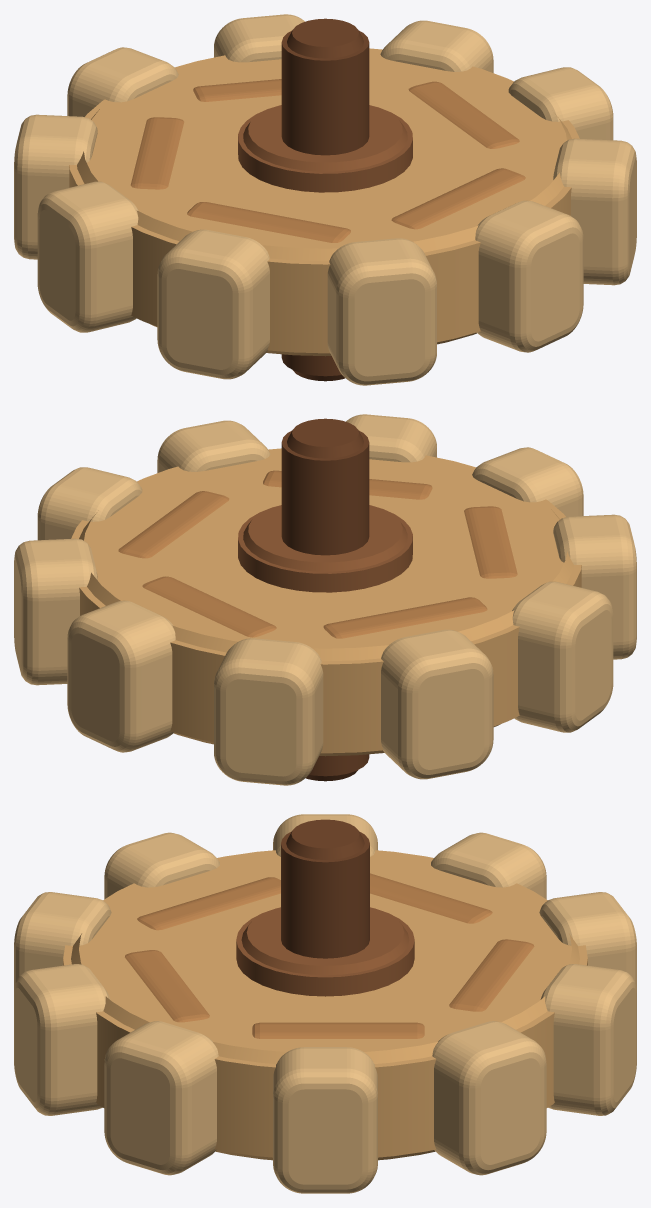
Rendered from wooden-cogwheel.glb.
3 views of the same model, one above another, from view 1: azimuth 30°, elevation 25°; view 2: azimuth 150°, elevation 25°; view 3: azimuth 270°, elevation 25° (orthographic).
Parts seen in each view (by area): view 1: rim, tooth_5, tooth_4, tooth_3, tooth_6, axle, tooth_2, hub, tooth_7, tooth_1, tooth_8, tooth_10 (+9 smaller); view 2: rim, tooth_7, tooth_8, tooth_9, tooth_6, axle, tooth_10, hub, tooth_5, tooth_1, tooth_4, tooth_2 (+9 smaller); view 3: rim, tooth_2, tooth_10, tooth_1, tooth_3, tooth_9, axle, hub, tooth_4, tooth_8, tooth_5, tooth_7 (+9 smaller).
Boxes of the visible parts, bbox=[...] form: rim: bbox=[69, 48, 579, 353]; tooth_5: bbox=[157, 229, 269, 379]; tooth_4: bbox=[327, 238, 436, 385]; tooth_3: bbox=[475, 200, 583, 352]; tooth_6: bbox=[37, 181, 138, 332]; axle: bbox=[281, 30, 369, 376]; tooth_2: bbox=[553, 138, 636, 285]; hub: bbox=[238, 105, 412, 192]; tooth_7: bbox=[14, 114, 97, 259]; tooth_1: bbox=[508, 67, 613, 140]; tooth_8: bbox=[67, 47, 178, 116]; tooth_10: bbox=[380, 20, 493, 72]; rim: bbox=[71, 448, 581, 753]; tooth_7: bbox=[381, 629, 493, 779]; tooth_8: bbox=[214, 638, 323, 785]; tooth_9: bbox=[67, 600, 175, 752]; tooth_6: bbox=[512, 581, 613, 732]; axle: bbox=[281, 430, 369, 776]; tooth_10: bbox=[14, 538, 97, 685]; hub: bbox=[238, 505, 412, 592]; tooth_5: bbox=[553, 514, 636, 659]; tooth_1: bbox=[37, 467, 142, 540]; tooth_4: bbox=[472, 447, 583, 516]; tooth_2: bbox=[157, 420, 270, 472]; rim: bbox=[63, 850, 587, 1157]; tooth_2: bbox=[104, 1021, 218, 1175]; tooth_10: bbox=[432, 1021, 546, 1175]; tooth_1: bbox=[273, 1047, 377, 1193]; tooth_3: bbox=[14, 964, 110, 1115]; tooth_9: bbox=[540, 964, 636, 1115]; axle: bbox=[281, 831, 369, 958]; hub: bbox=[236, 907, 414, 996]; tooth_4: bbox=[14, 892, 111, 989]; tooth_8: bbox=[539, 892, 636, 989]; tooth_5: bbox=[104, 832, 219, 899]; tooth_7: bbox=[431, 832, 546, 899].
Bounding box in the file's own units: 2.4 × 1.43 × 2.37.
